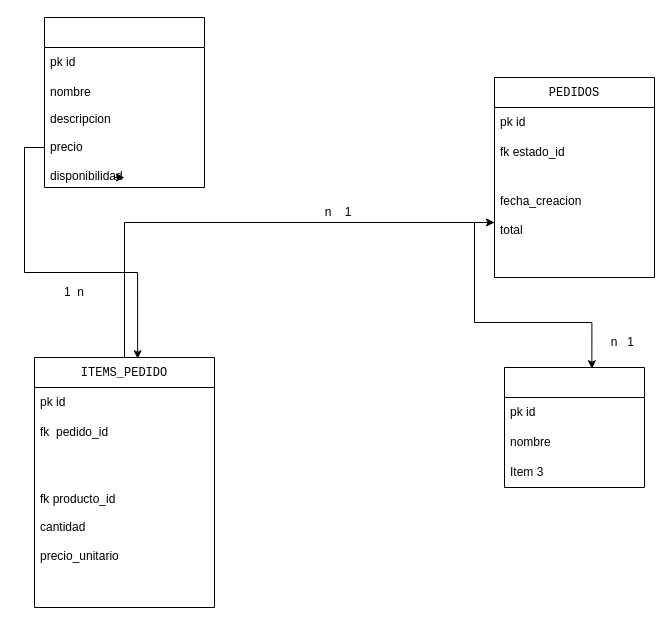
This 672x625 diagram has some shape labels left out. Each missing label, with the box of its shape:
ESTADOS_PEDIDO: (504, 366, 644, 488)
PRODUCTOS_MENU: (44, 16, 204, 188)
